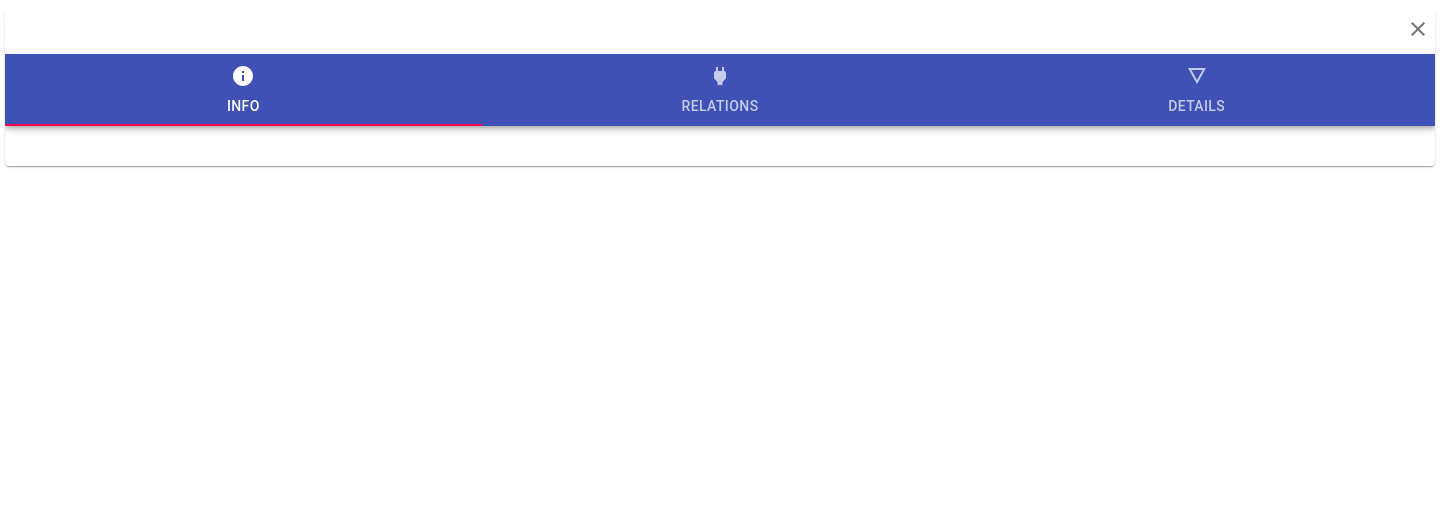
it: <Item /> › should display networks, frameworks and other labels
Click the tab titled "API / Interfaces" at (1197, 90), box [958,54,1435,126]
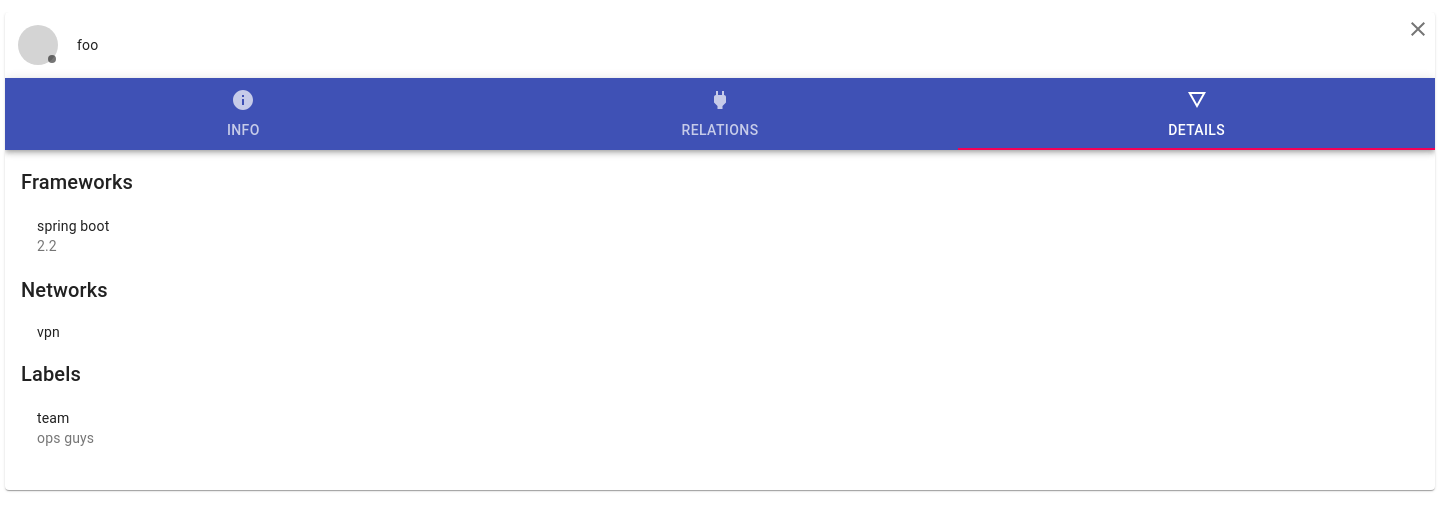
Now the text "vpn" is shown, box [37,324,60,340]
Now the heading "Networks" is shown, box [21,278,108,302]
Now the text "spring boot" is shown, box [37,218,109,234]
